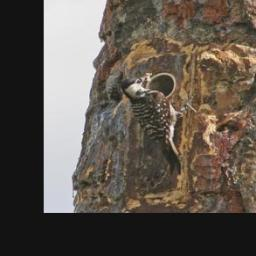Woodpecker: (120, 73, 197, 174)
